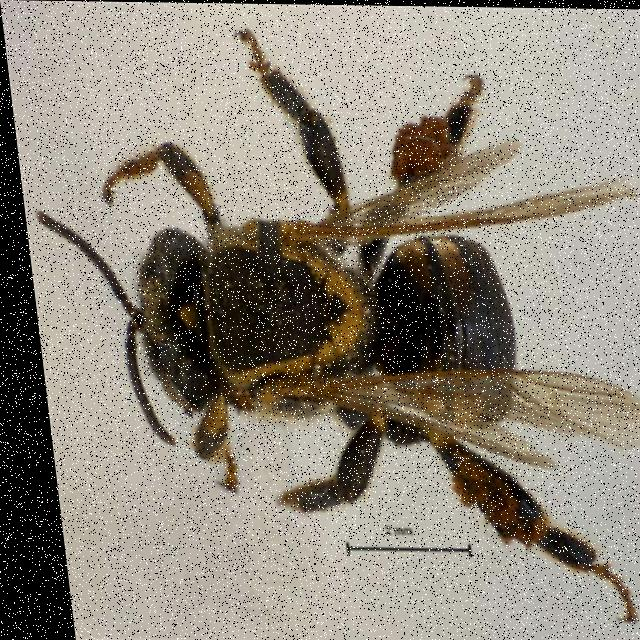Meliponula: (26, 18, 640, 635)
